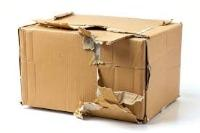damaged package: (78, 32, 150, 121)
undamaged: (16, 11, 181, 123)
